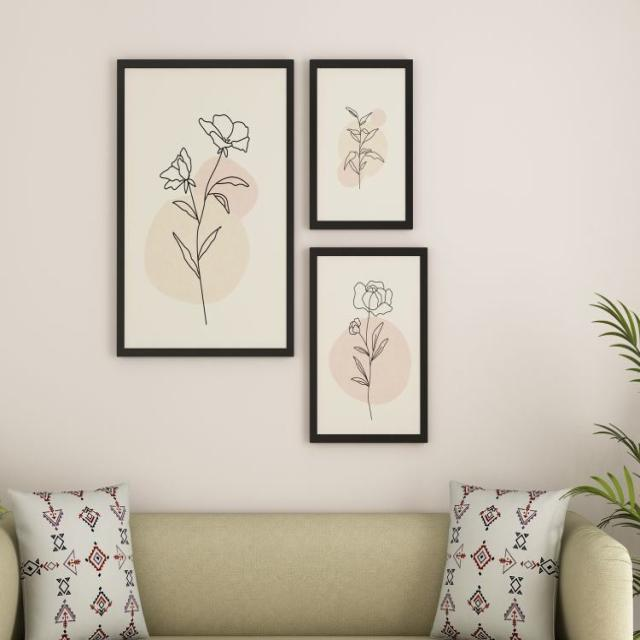painting: (116, 57, 294, 356), (311, 247, 428, 443), (311, 60, 413, 230)
